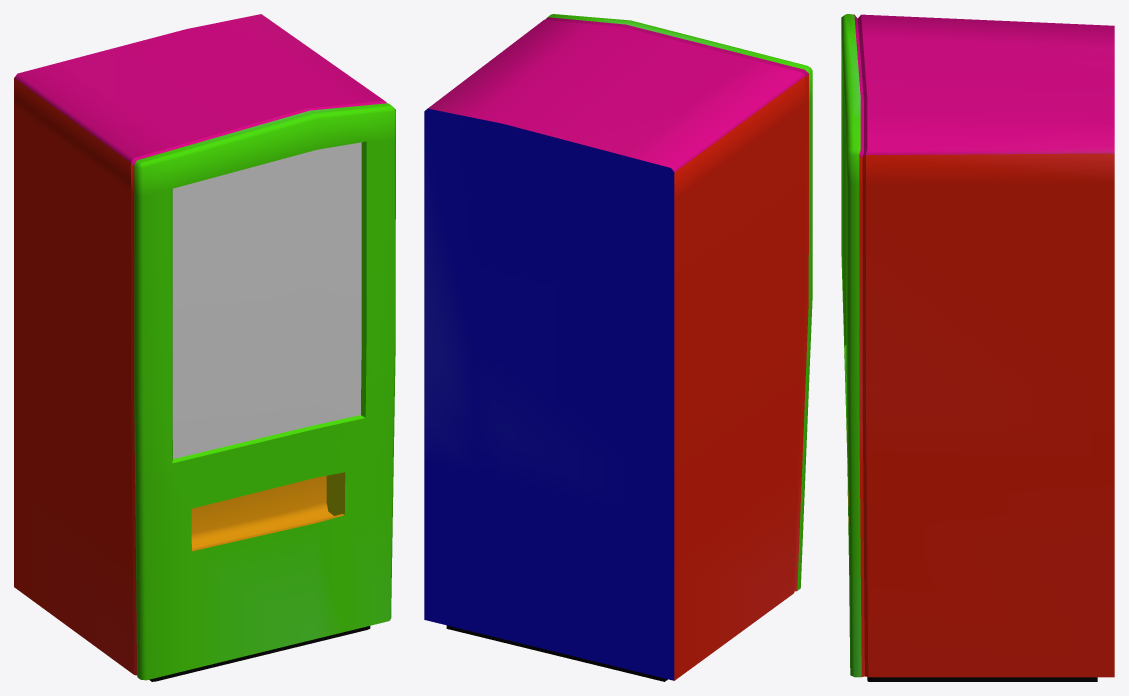
File: Dispensors.fbx
3 views of the same model, side by side, from view 1: azimuth 30°, elevation 25°; view 2: azimuth 150°, elevation 25°; view 3: azimuth 270°, elevation 25° (orthographic). The views are drawn at different scales.
Parts seen in each view (by area): view 1: dispenser; view 2: dispenser; view 3: dispenser.
Boxes of the visible parts, bbox=[...] form: dispenser: bbox=[14, 14, 395, 681]; dispenser: bbox=[424, 14, 812, 681]; dispenser: bbox=[841, 14, 1114, 681].
Bounding box in the file's own units: 93.93 × 184 × 82.71.
